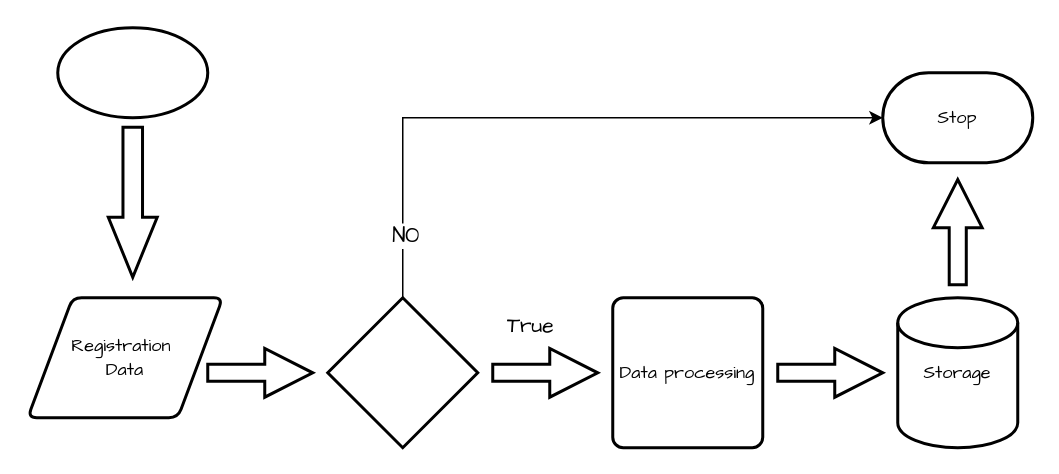
This 1059x474 diagram has some shape labels left out. Each missing label, with the box of its shape:
Start: (56, 26, 208, 118)
Validation: (326, 296, 478, 448)
